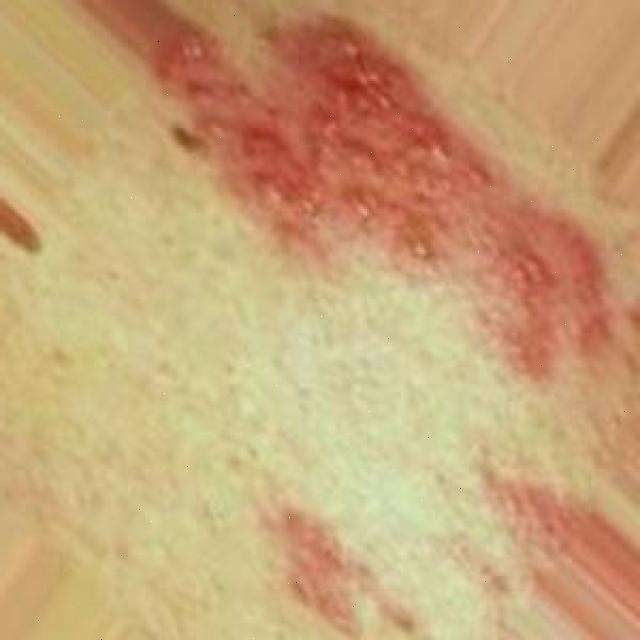Shingles: (164, 10, 612, 380), (275, 500, 375, 630), (482, 470, 576, 550)
